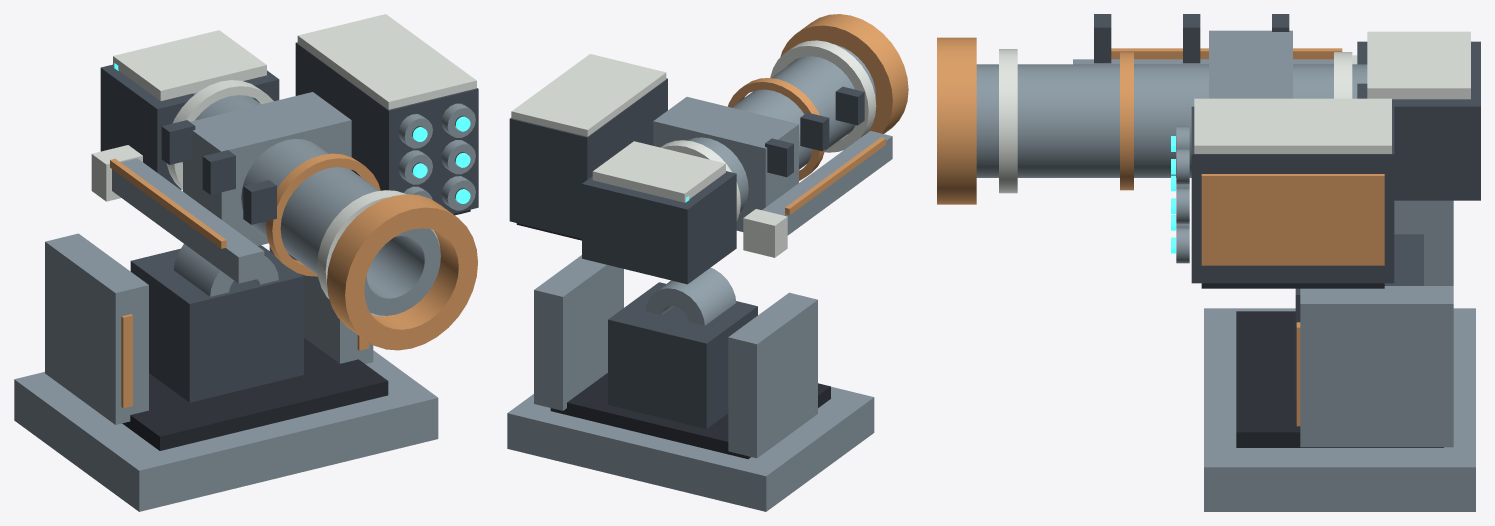
Rendered from M01-004_animated.glb.
3 views of the same model, side by side, from view 1: azimuth 30°, elevation 25°; view 2: azimuth 150°, elevation 25°; view 3: azimuth 270°, elevation 25° (orthographic). The views are drawn at different scales.
Parts seen in each view (by area): view 1: M01-004_Mount_TOP_SNAPPad, M01-004_Pedestal_Spine, M01-004_Pedestal_Cheek_L, M01-004_Barrel_MuzzleBrake, M01-004_Barrel_Hollow, M01-004_Mount_RubberIsolator, M01-004_Cassette_Housing, M01-004_Barrel_ReinforcedCollar, M01-004_Cassette_Lid, M01-004_Breech_TopPlate, M01-004_Left_GuideRail, M01-004_Breech_Block (+16 smaller); view 2: M01-004_Mount_TOP_SNAPPad, M01-004_Pedestal_Spine, M01-004_Breech_Block, M01-004_Pedestal_Cheek_L, M01-004_Cassette_Housing, M01-004_Pedestal_Cheek_R, M01-004_Barrel_ReinforcedCollar, M01-004_Cassette_Lid, M01-004_Barrel_Hollow, M01-004_Barrel_MuzzleBrake, M01-004_Breech_TopPlate, M01-004_Mount_RubberIsolator (+10 smaller); view 3: M01-004_Mount_TOP_SNAPPad, M01-004_Pedestal_Cheek_R, M01-004_Barrel_Hollow, M01-004_Cassette_CopperSpine, M01-004_Cassette_Lid, M01-004_Cassette_Housing, M01-004_Breech_Block, M01-004_Mount_RubberIsolator, M01-004_Breech_TopPlate, M01-004_Barrel_MuzzleBrake, M01-004_Barrel_ReinforcedCollar, M01-004_Pedestal_Cheek_L (+9 smaller).
Boxes of the visible parts, x1,y1,x2,y2 form: M01-004_Mount_TOP_SNAPPad: (14,350,438,511); M01-004_Pedestal_Spine: (130,245,303,402); M01-004_Pedestal_Cheek_L: (45,233,148,424); M01-004_Barrel_MuzzleBrake: (327,194,477,350); M01-004_Barrel_Hollow: (182,92,440,315); M01-004_Mount_RubberIsolator: (122,338,388,450); M01-004_Cassette_Housing: (295,42,478,213); M01-004_Barrel_ReinforcedCollar: (183,92,351,245); M01-004_Cassette_Lid: (297,14,476,109); M01-004_Breech_TopPlate: (113,30,266,100); M01-004_Left_GuideRail: (112,158,264,283); M01-004_Breech_Block: (100,64,279,189); M01-004_Mount_TOP_SNAPPad: (507,386,874,511); M01-004_Pedestal_Spine: (608,282,757,428); M01-004_Breech_Block: (582,171,736,284); M01-004_Pedestal_Cheek_L: (728,292,817,458); M01-004_Cassette_Housing: (509,78,667,238); M01-004_Pedestal_Cheek_R: (534,255,623,410); M01-004_Barrel_ReinforcedCollar: (653,97,798,231); M01-004_Cassette_Lid: (511,54,666,136); M01-004_Barrel_Hollow: (687,44,876,211); M01-004_Barrel_MuzzleBrake: (780,14,908,134); M01-004_Breech_TopPlate: (592,141,725,202); M01-004_Mount_RubberIsolator: (550,373,830,459); M01-004_Mount_TOP_SNAPPad: (1204,308,1475,511); M01-004_Pedestal_Cheek_R: (1300,286,1453,447); M01-004_Barrel_Hollow: (976,64,1367,177); M01-004_Cassette_CopperSpine: (1201,174,1384,265); M01-004_Cassette_Lid: (1194,98,1391,153); M01-004_Cassette_Housing: (1191,106,1394,283); M01-004_Breech_Block: (1357,41,1480,200); M01-004_Mount_RubberIsolator: (1236,311,1443,447); M01-004_Breech_TopPlate: (1367,31,1470,99); M01-004_Barrel_MuzzleBrake: (937,37,976,204); M01-004_Barrel_ReinforcedCollar: (1209,30,1292,98); M01-004_Pedestal_Cheek_L: (1394,200,1453,285).
Bounding box in the file's own units: 0.857 × 0.864 × 1.1.
